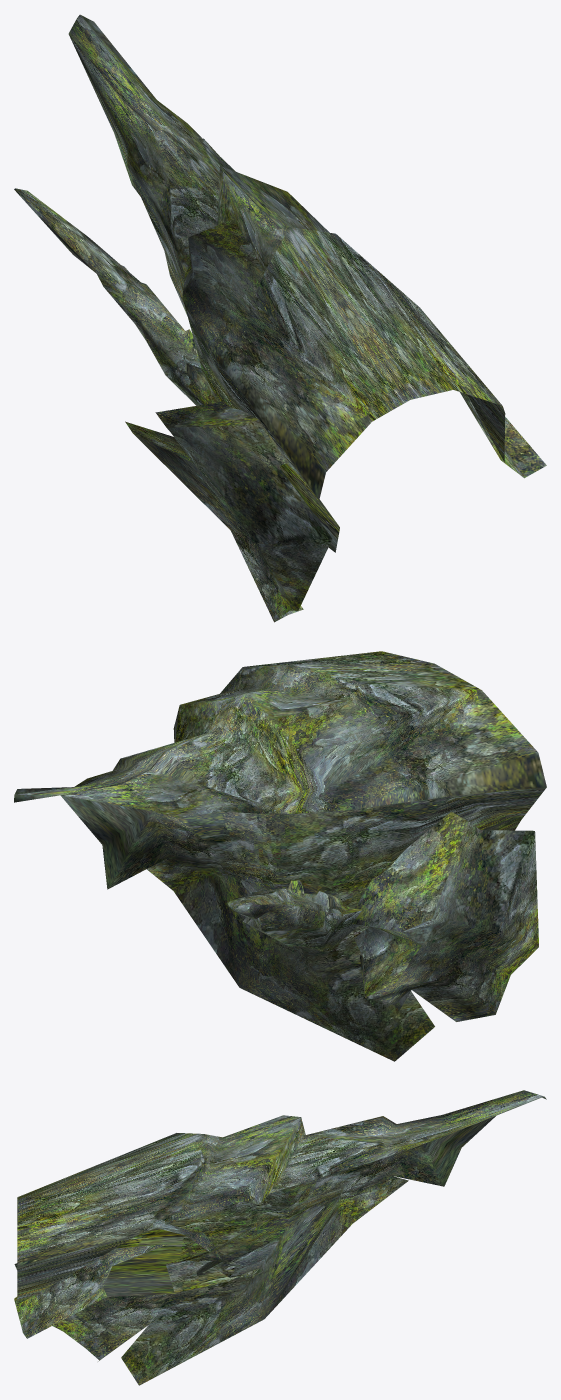
File: S_Rock_Green061_A1.FBX
3 renders of one model, top to bottom at view 1: azimuth 30°, elevation 25°; view 2: azimuth 150°, elevation 25°; view 3: azimuth 270°, elevation 25°, orthographic. The views are drawn at different scales.
Parts seen in each view (by area): view 1: S_Rock_Green061_A1; view 2: S_Rock_Green061_A1; view 3: S_Rock_Green061_A1.
Boxes of the visible parts, x1,y1,x2,y2 form: S_Rock_Green061_A1: [14, 14, 546, 622]; S_Rock_Green061_A1: [14, 651, 546, 1061]; S_Rock_Green061_A1: [14, 1090, 546, 1385].
Size of the model in its own units: 761 by 1078 by 1687.
